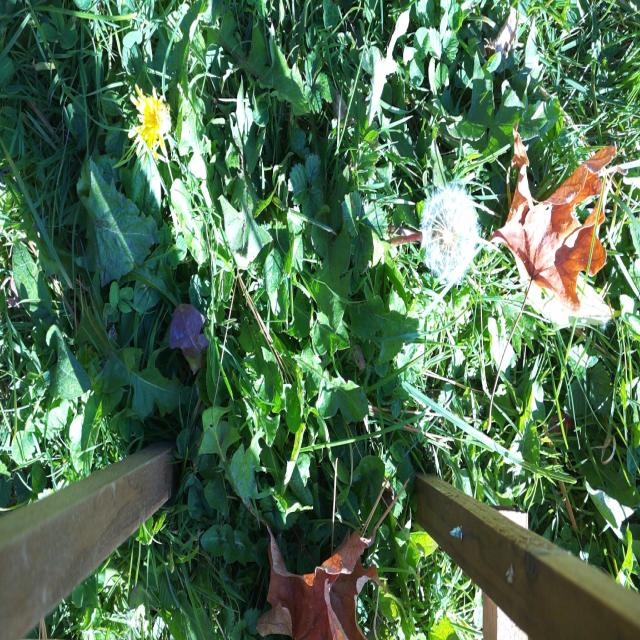base: (379, 225, 397, 258)
flower: (420, 182, 477, 279), (130, 86, 172, 150)
